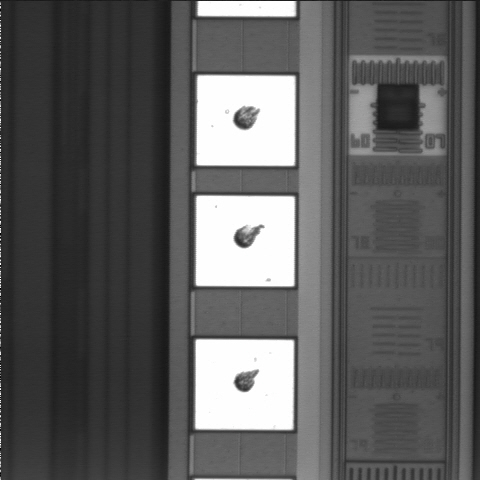pad: (195, 339, 294, 430), (197, 75, 295, 166), (196, 196, 295, 286)
